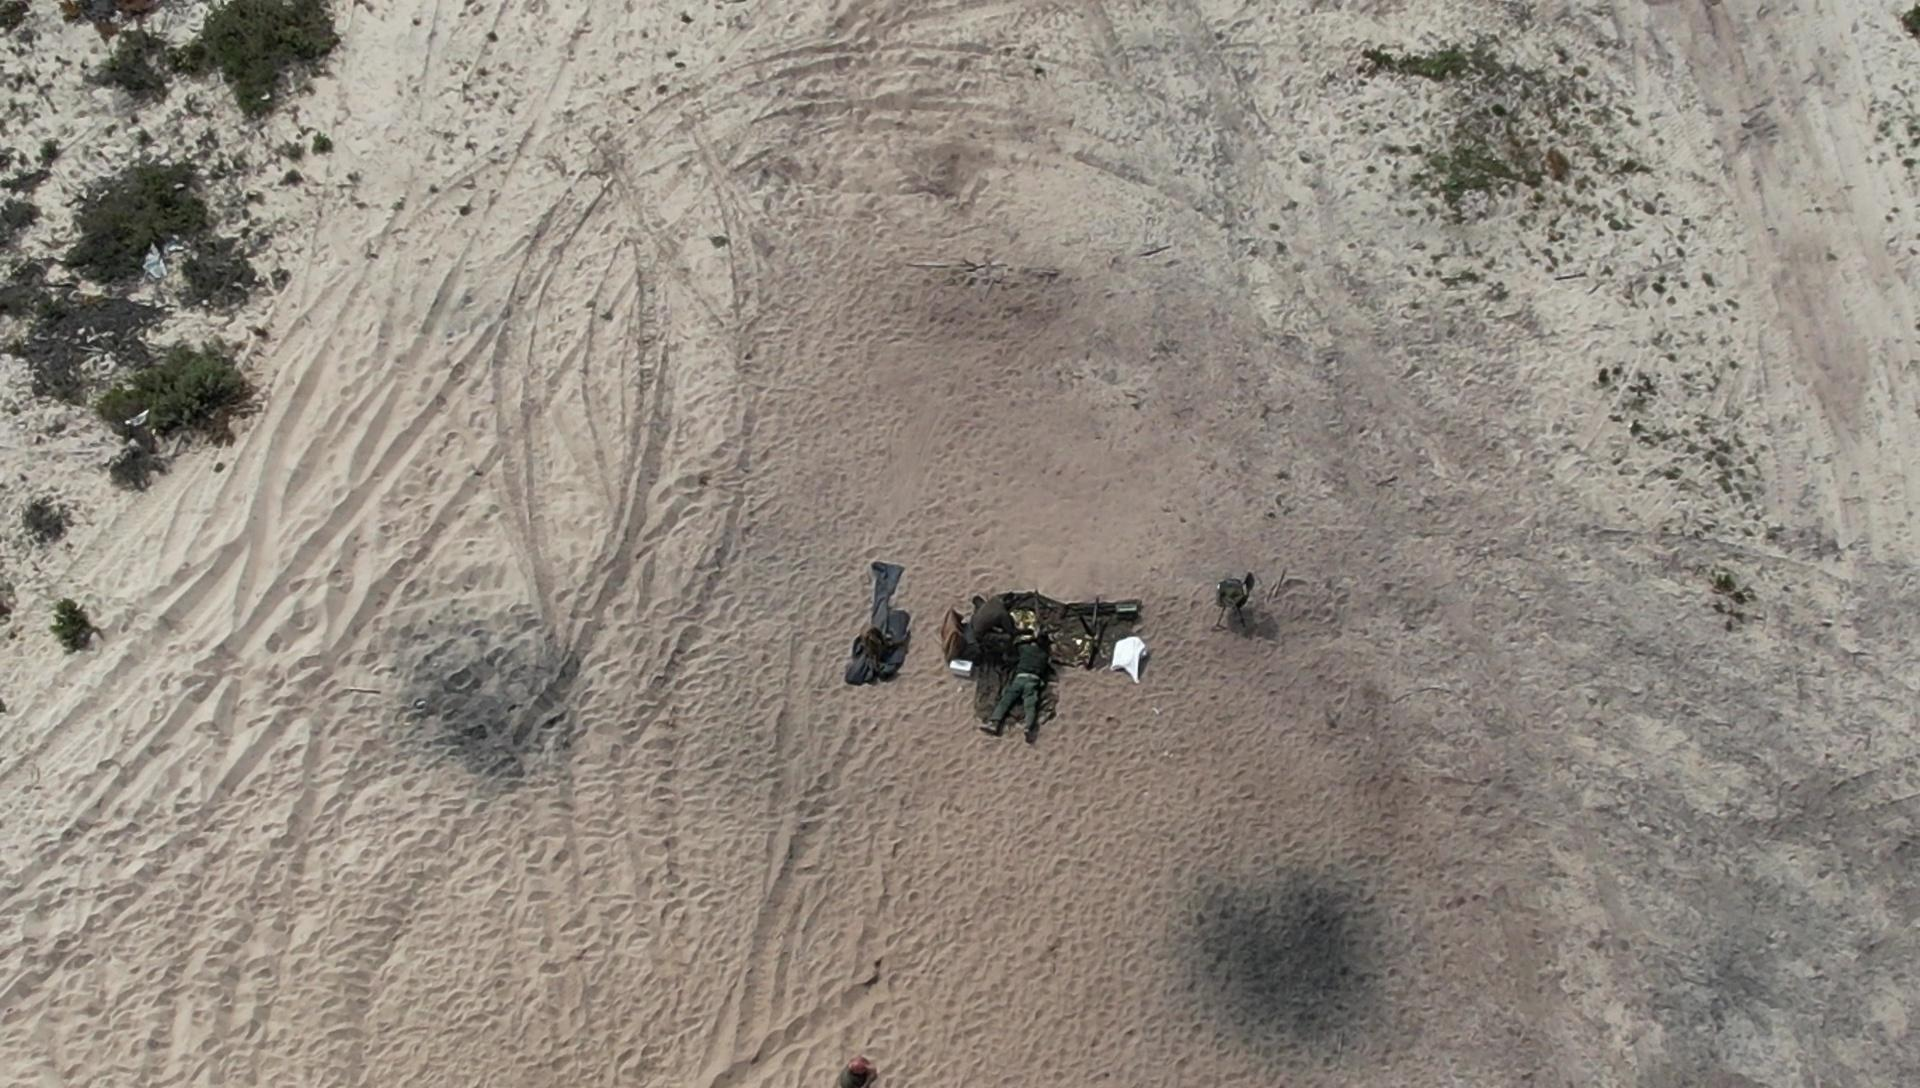Soldier: (982, 625, 1062, 728), (959, 592, 1056, 669)
